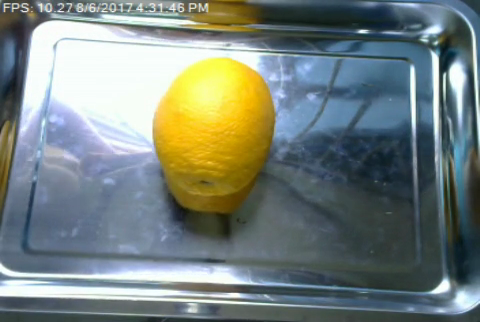Orange: (151, 58, 275, 195)
